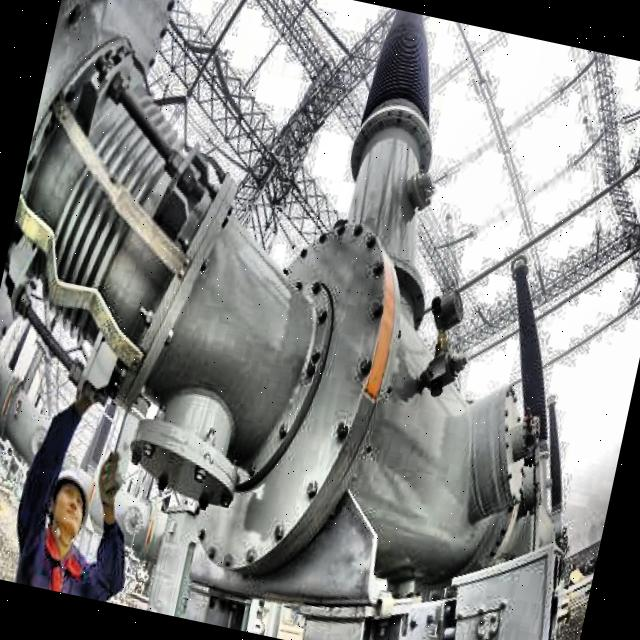helmet: (40, 449, 104, 551)
